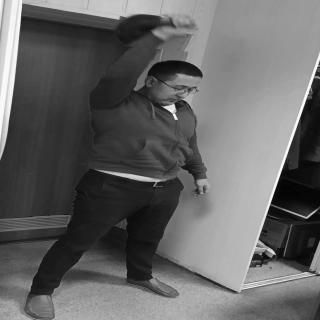kettlebell: (115, 15, 198, 51)
